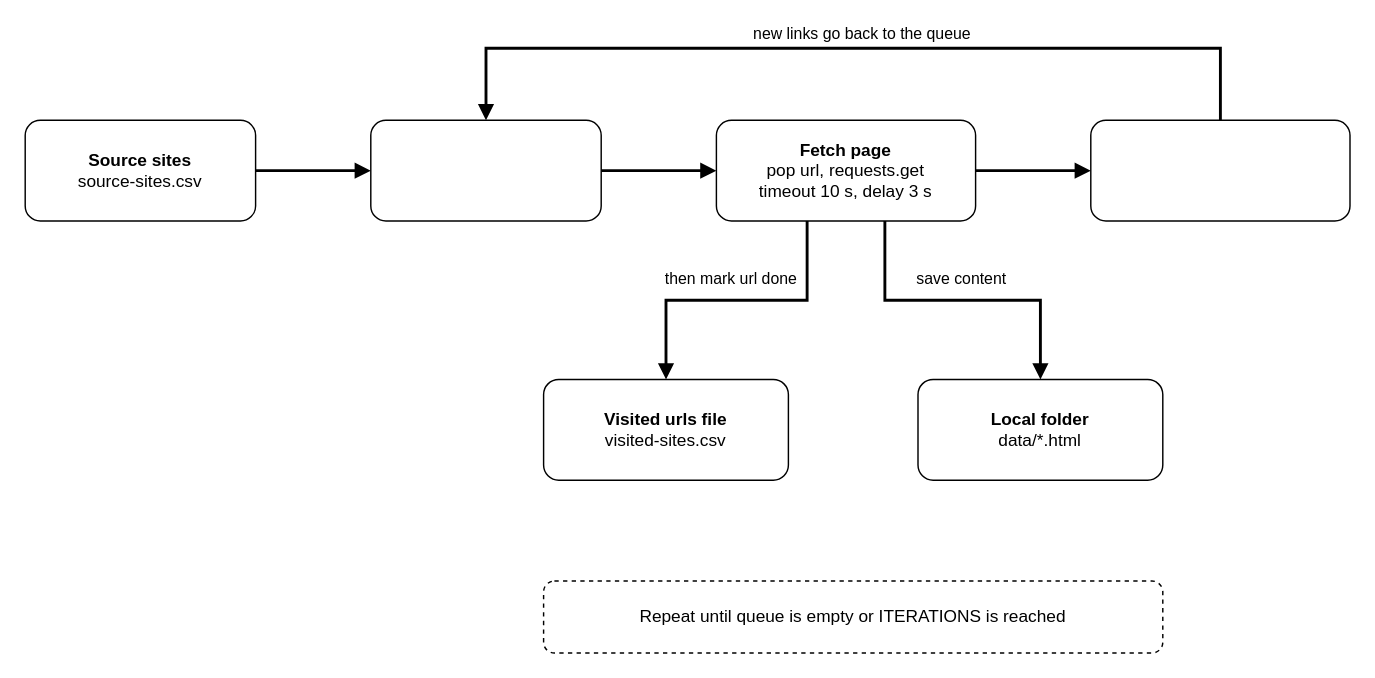
This 1375x678 diagram has some shape labels left out. The shapes that lost their labels are listed below. From the top down, each one's box as (x1, y1, x2, y2) in pixels, then its label:
(369, 119, 601, 221): Frontier queue frontier-queue.csv
(1089, 119, 1350, 221): Extract links fetchURLs, domain and visited filter
